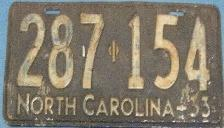1: (122, 12, 150, 91)
2: (15, 12, 49, 90)
4: (182, 15, 214, 93)
5: (150, 12, 185, 90)
7: (77, 12, 106, 91)
8: (47, 13, 76, 90)
A: (182, 15, 213, 93)
